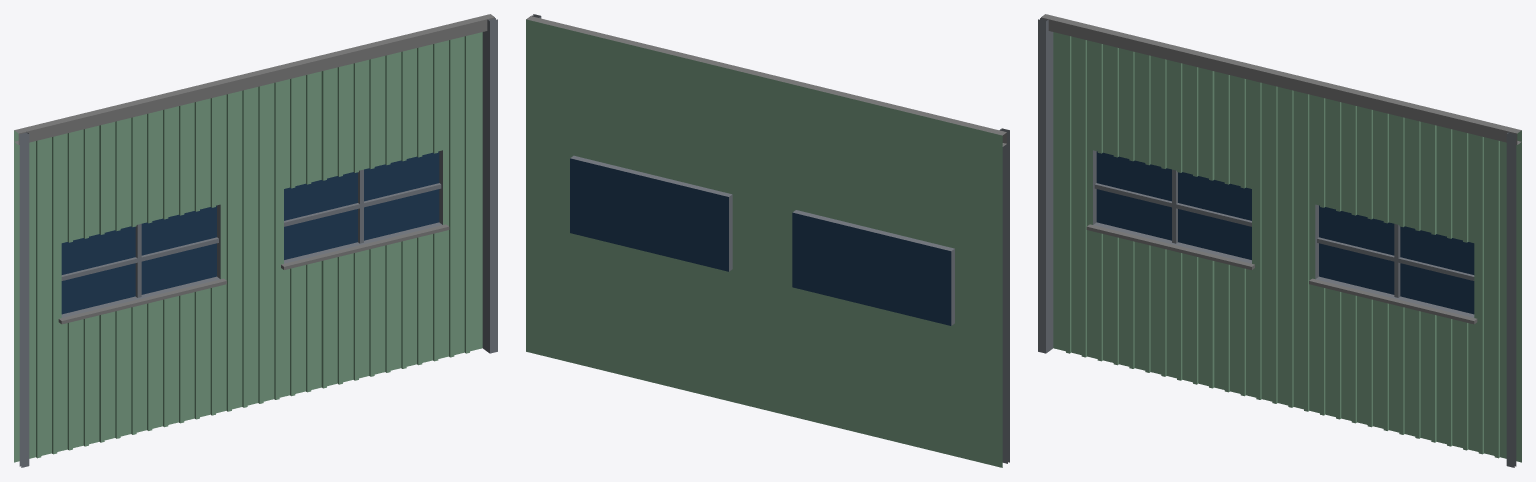
The model's file is mid-w1_close.fbx.
The picture shows the model from 3 angles, left to right: view 1: azimuth 30°, elevation 25°; view 2: azimuth 150°, elevation 25°; view 3: azimuth 330°, elevation 25°; orthographic projection.
Parts seen in each view (by area): view 1: a2013/500/mid-w1_close; view 2: a2013/500/mid-w1_close; view 3: a2013/500/mid-w1_close.
Part boxes in pixels (box(x1,y1,x2,y2)): a2013/500/mid-w1_close: box(14, 14, 497, 467); a2013/500/mid-w1_close: box(526, 14, 1009, 467); a2013/500/mid-w1_close: box(1038, 14, 1521, 467).
Size of the model in its own units: 6 by 4 by 0.24.
